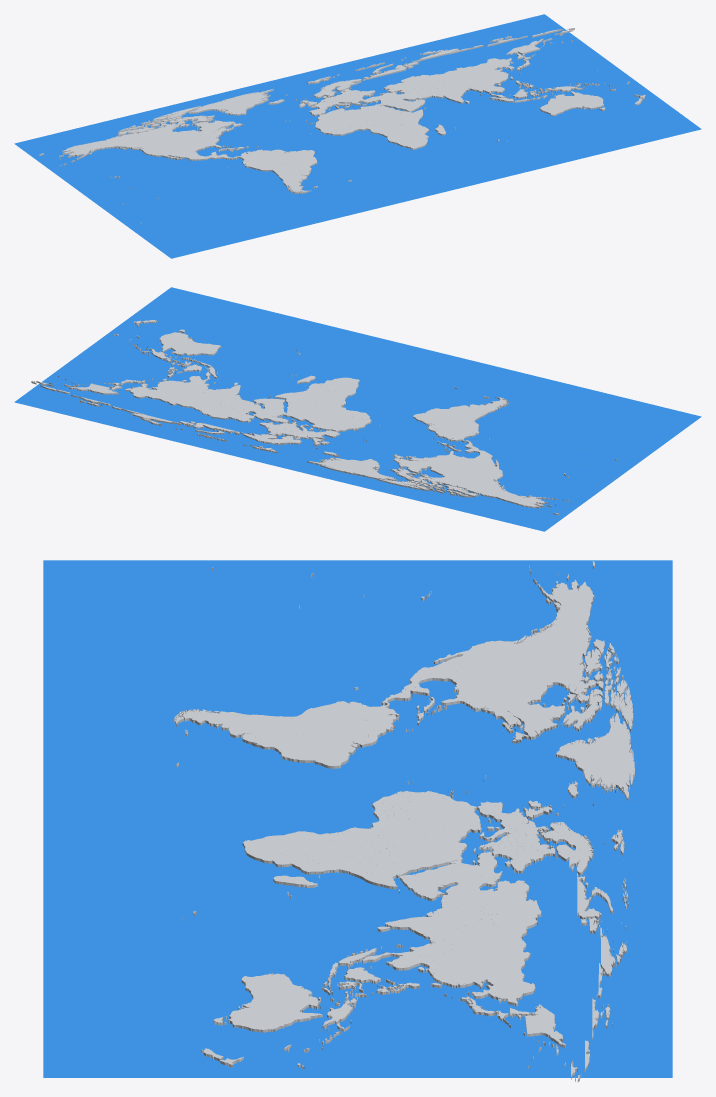
File: mapa_mundi.glb
3 views of the same model, one above another, from view 1: azimuth 30°, elevation 25°; view 2: azimuth 150°, elevation 25°; view 3: azimuth 270°, elevation 25° (orthographic). The views are drawn at different scales.
Parts seen in each view (by area): view 1: OCEANO, Canada, Russia, United States of America, China, Greenland, Australia, Brazil, Indonesia, India, Kazakhstan; view 2: OCEANO, Canada, Russia, United States of America, China, Greenland, Australia, Brazil, Kazakhstan, Indonesia; view 3: OCEANO, Canada, Russia, United States of America, China, Australia, Brazil, Greenland, Argentina, Kazakhstan, India, Indonesia (+7 smaller).
Boxes of the visible parts, x1,y1,x2,y2 form: OCEANO: (14,14,701,258); Canada: (98,106,243,149); Russia: (39,28,574,156); United States of America: (59,40,572,178); China: (431,58,511,87); Greenland: (189,89,273,115); Australia: (539,91,605,116); Brazil: (257,150,317,174); Indonesia: (490,86,567,102); India: (435,83,486,103); Kazakhstan: (384,74,441,91); OCEANO: (14,287,701,531); Canada: (377,454,509,500); Russia: (31,381,559,515); United States of America: (58,376,570,508); China: (125,380,219,407); Greenland: (307,457,397,481); Australia: (158,329,221,356); Brazil: (413,405,470,432); Kazakhstan: (192,405,250,422); Indonesia: (158,352,218,378); OCEANO: (43,560,672,1077); Canada: (496,617,633,743); Russia: (497,561,628,1082); United States of America: (421,565,594,1068); China: (418,918,535,1005); Australia: (213,973,322,1032); Brazil: (246,711,374,768); Greenland: (556,713,634,800); Argentina: (175,712,285,739); Kazakhstan: (492,880,541,938); India: (380,910,475,950); Indonesia: (322,948,376,1014).
Bounding box in the file's own units: 374 × 1.8 × 190.
